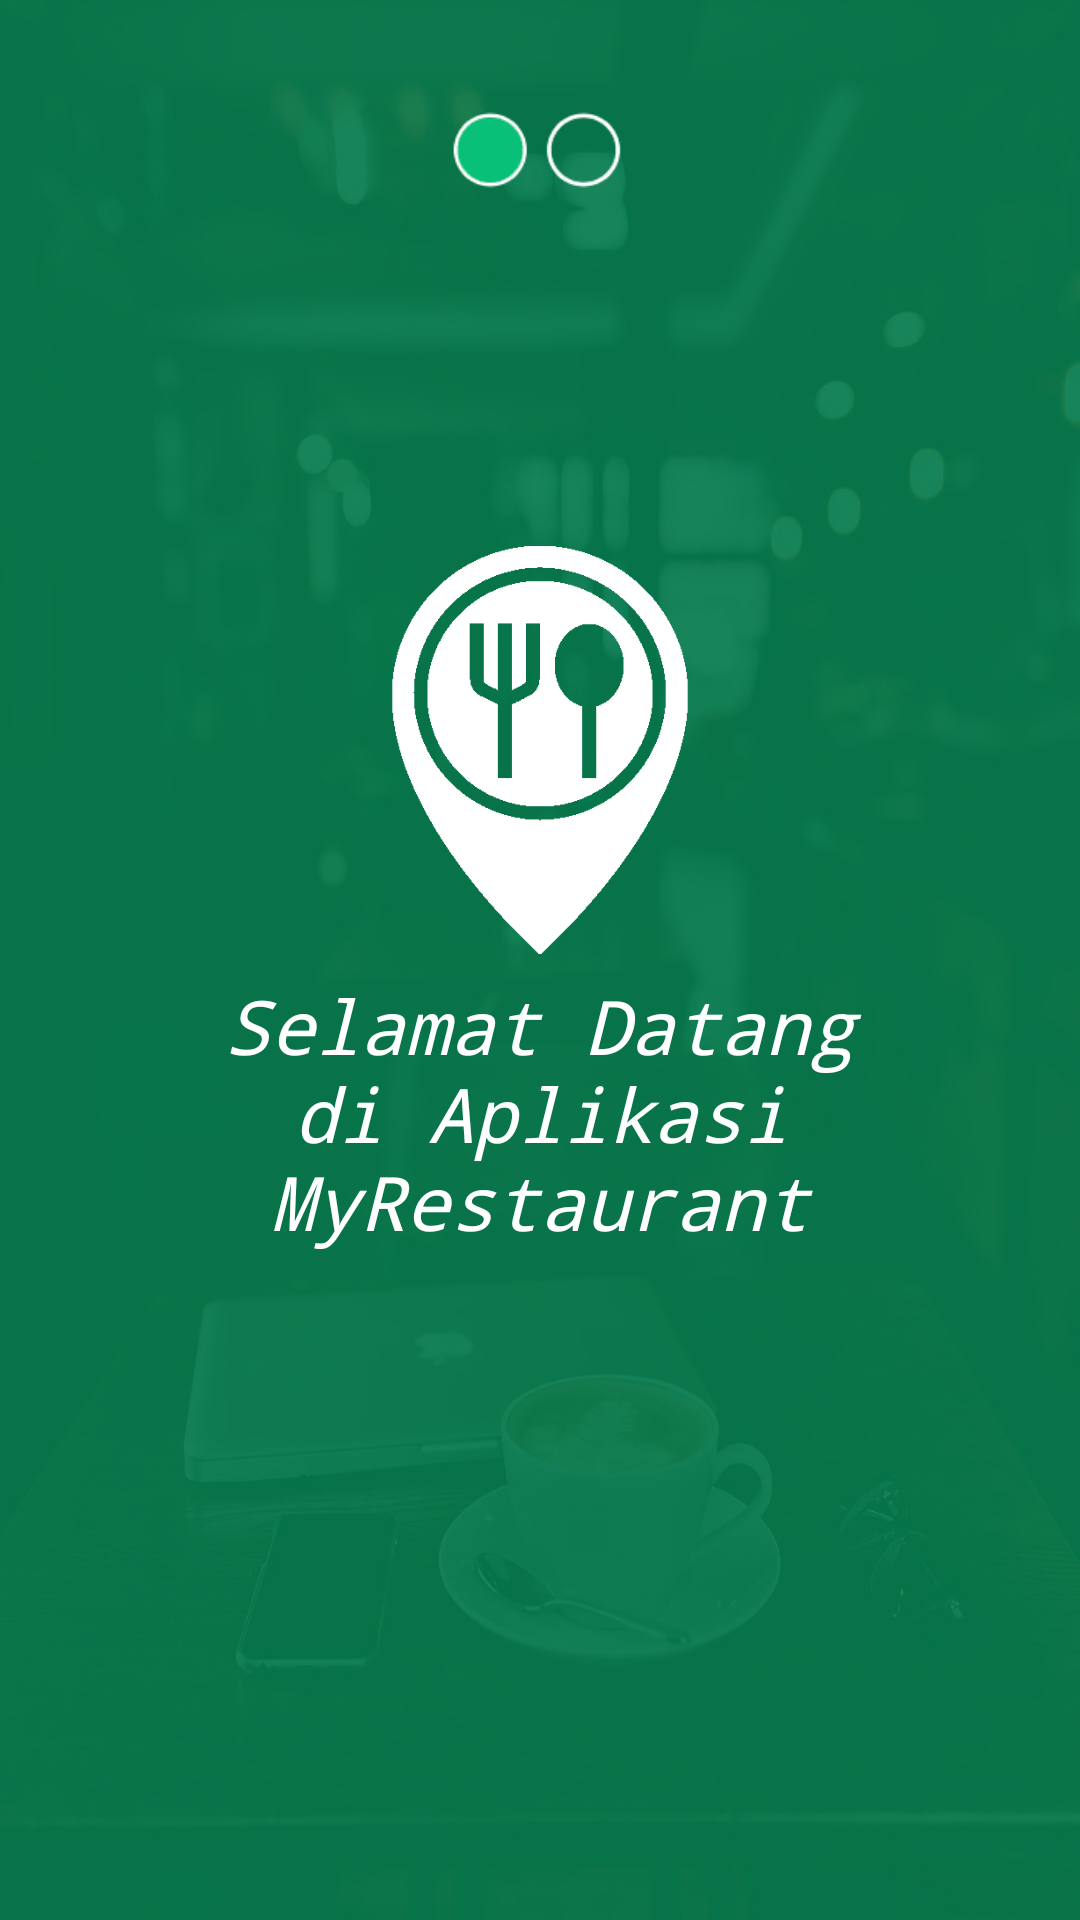

Locate icon controls on the screen. Image size 1080×1920, boxes as (x1, y1, x2, y2).
indicator: (453, 112, 621, 188)
